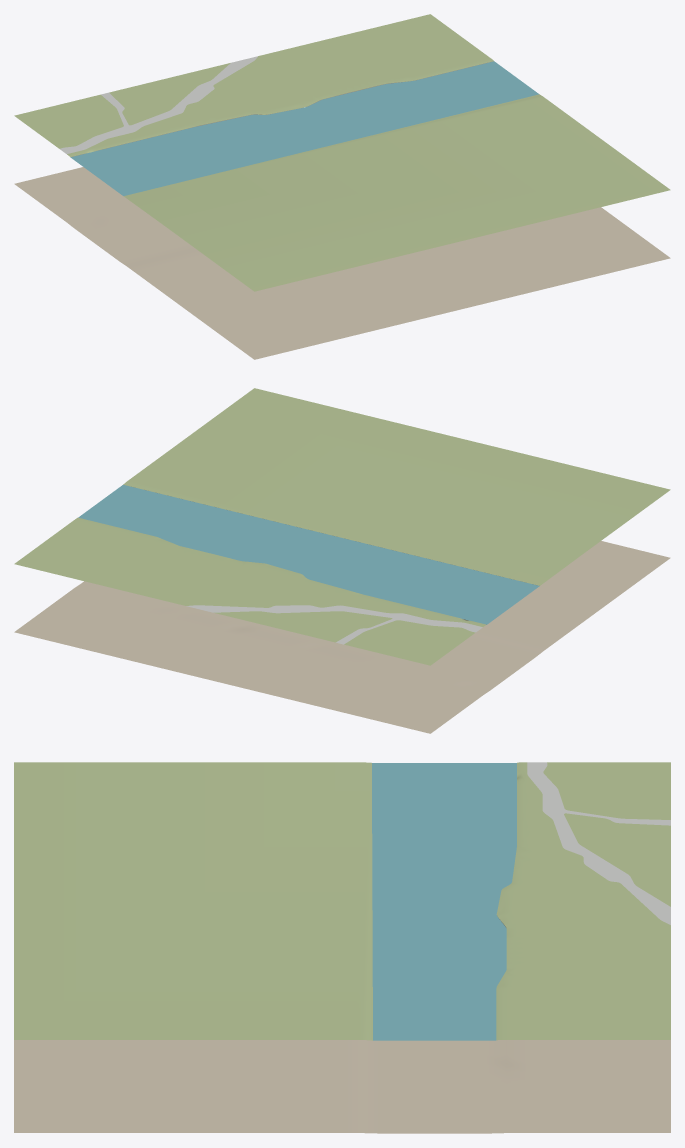
3 views of the same model, one above another, from view 1: azimuth 30°, elevation 25°; view 2: azimuth 150°, elevation 25°; view 3: azimuth 270°, elevation 25° (orthographic). The views are drawn at different scales.
Parts seen in each view (by area): view 1: s_-9_6__grass, s_-9_6__soil, s_-9_6__water, s_-9_6__stone_paving; view 2: s_-9_6__grass, s_-9_6__soil, s_-9_6__water, s_-9_6__stone_paving; view 3: s_-9_6__grass, s_-9_6__soil, s_-9_6__water, s_-9_6__stone_paving.
Part boxes in pixels (left/top/right/bottom): s_-9_6__grass: left=14, top=14, right=670, bottom=291; s_-9_6__soil: left=14, top=167, right=670, bottom=359; s_-9_6__water: left=70, top=61, right=538, bottom=196; s_-9_6__stone_paving: left=60, top=56, right=257, bottom=153; s_-9_6__grass: left=14, top=388, right=670, bottom=665; s_-9_6__soil: left=14, top=541, right=670, bottom=733; s_-9_6__water: left=78, top=485, right=539, bottom=624; s_-9_6__stone_paving: left=186, top=605, right=482, bottom=644; s_-9_6__grass: left=14, top=762, right=670, bottom=1040; s_-9_6__soil: left=14, top=1040, right=670, bottom=1133; s_-9_6__water: left=372, top=763, right=516, bottom=1040; s_-9_6__stone_paving: left=527, top=762, right=670, bottom=924.
Size of the model in its own units: 128 by 20.14 by 128.
